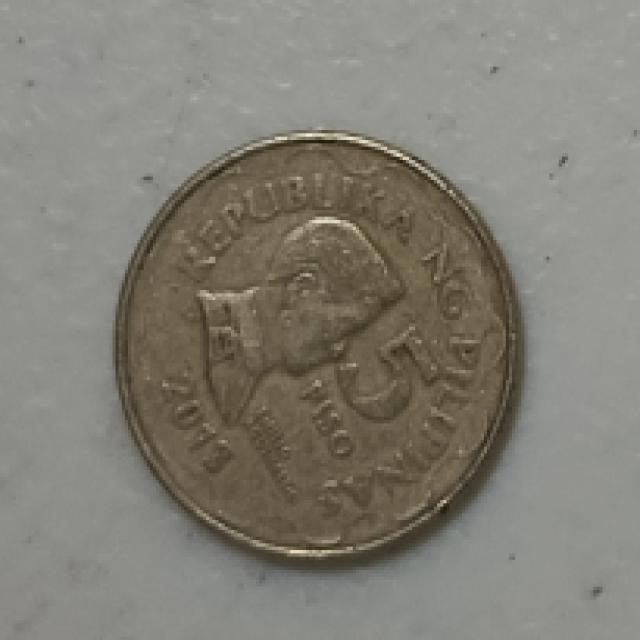5_peso: (119, 133, 518, 553)
